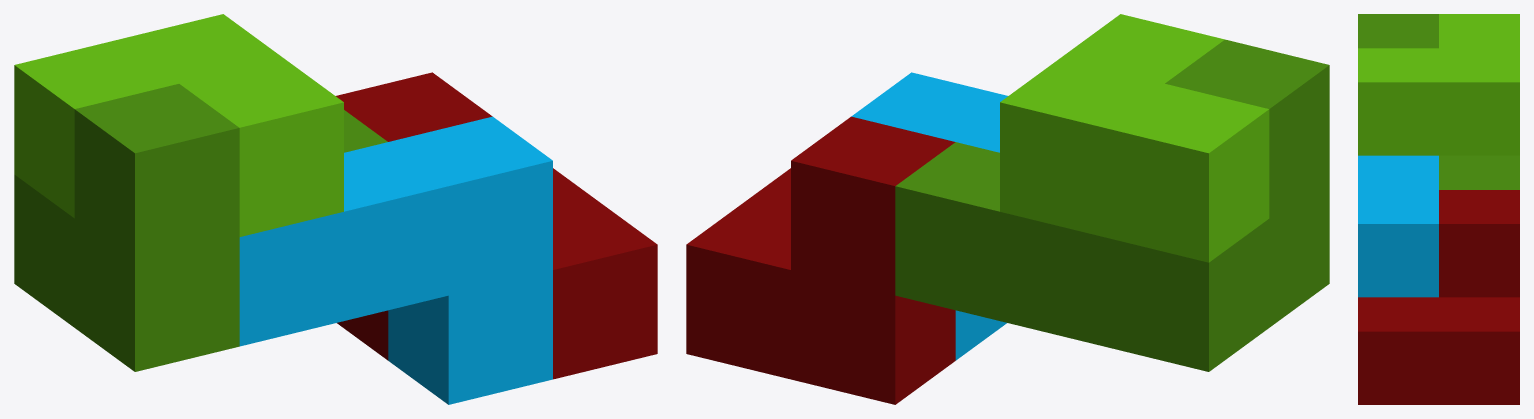
3 views of the same model, side by side, from view 1: azimuth 30°, elevation 25°; view 2: azimuth 150°, elevation 25°; view 3: azimuth 270°, elevation 25° (orthographic). The views are drawn at different scales.
Parts seen in each view (by area): view 1: mergedBlocks(Clone); view 2: mergedBlocks(Clone); view 3: mergedBlocks(Clone).
Part boxes in pixels (x1,y1,x2,y2): mergedBlocks(Clone): (14, 14, 657, 404); mergedBlocks(Clone): (686, 14, 1329, 404); mergedBlocks(Clone): (1358, 14, 1519, 404).
Size of the model in its own units: 5 by 3 by 2.
Materials: 4 (4 with a texture image).
